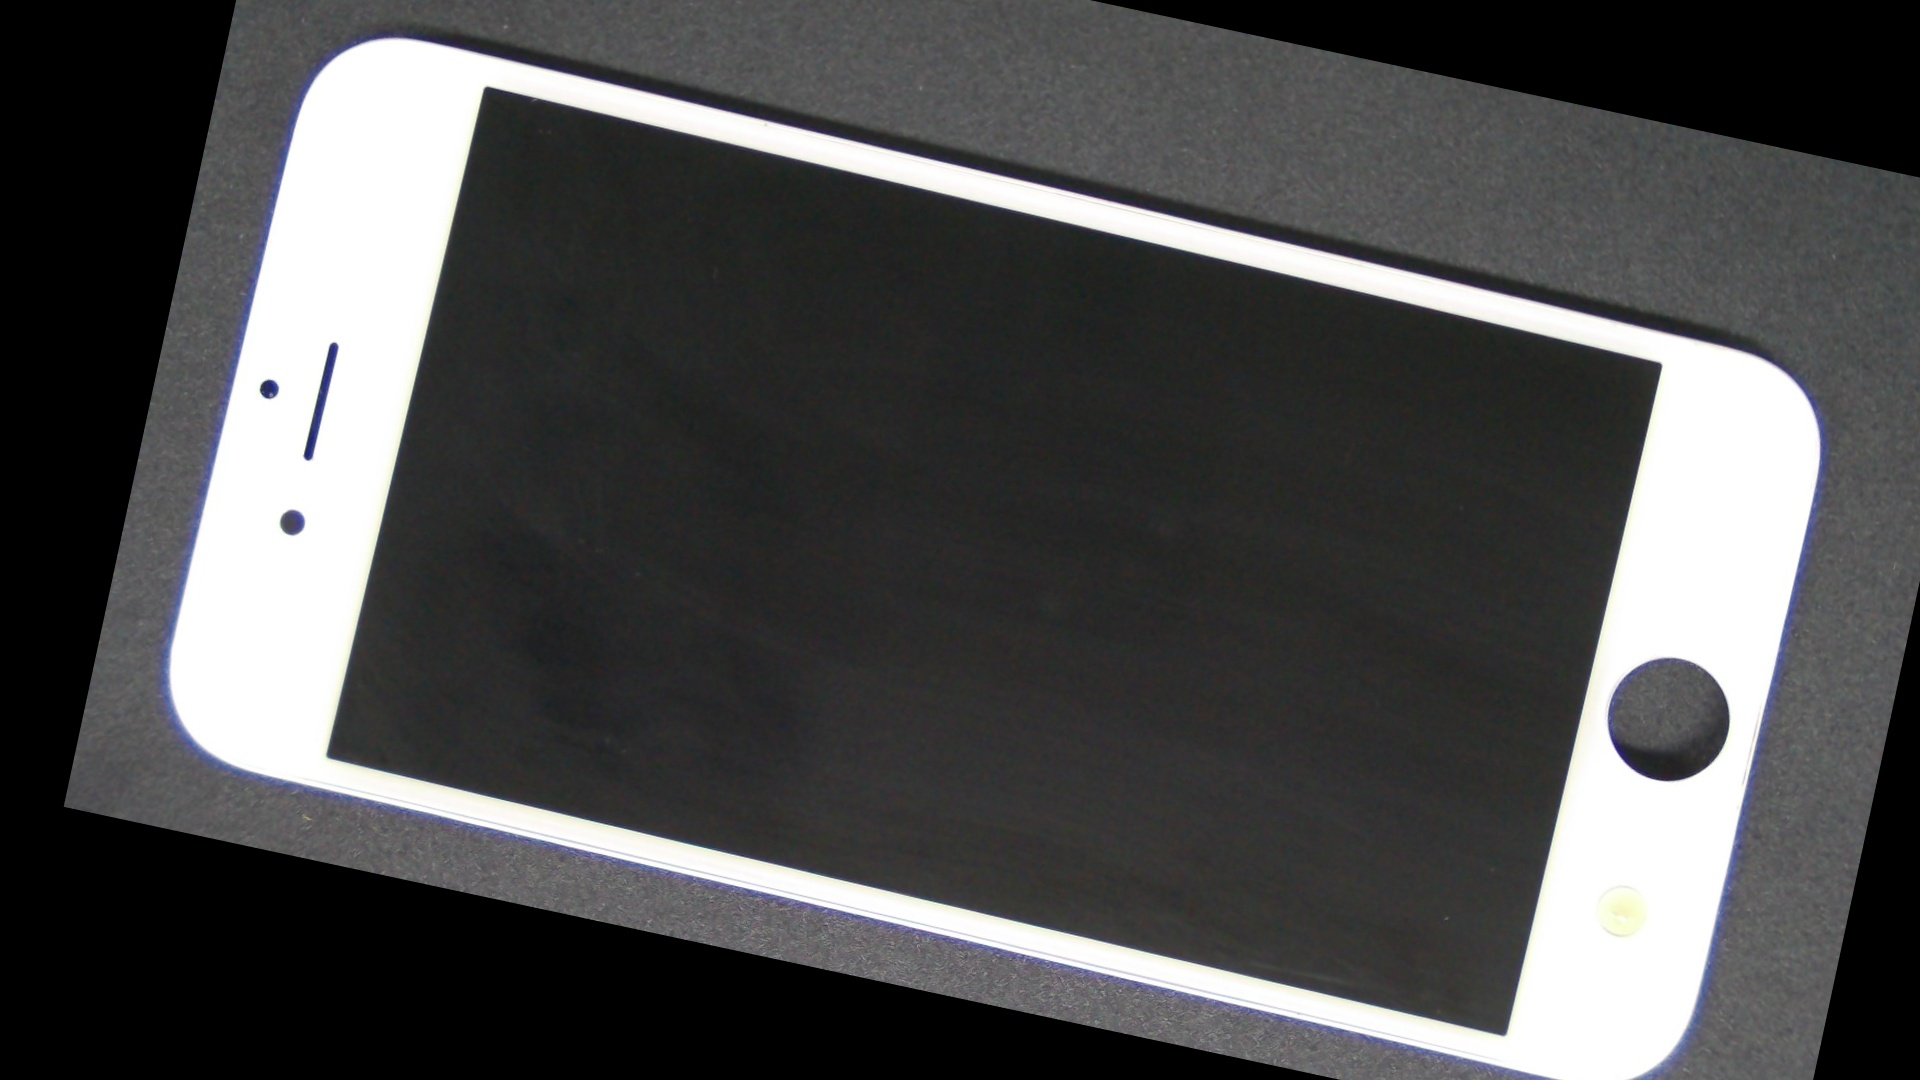oil: (818, 355, 1920, 1080)
